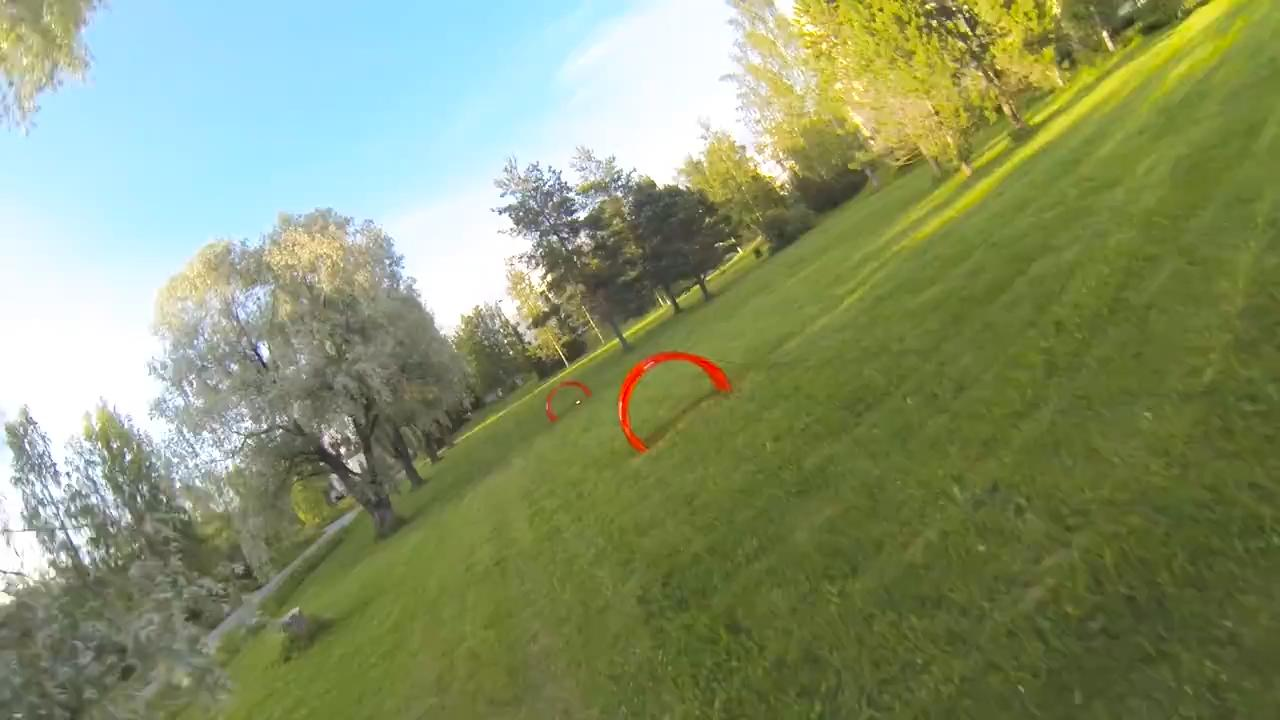gate: (616, 349, 733, 455)
